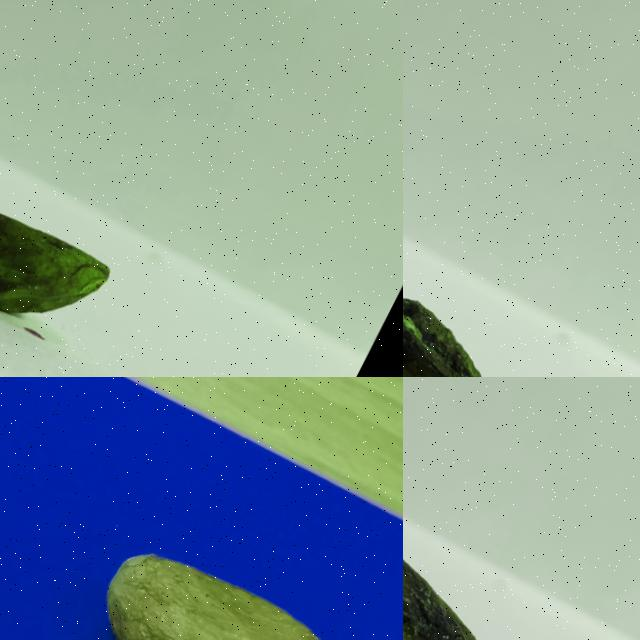Fine_cocoabeans: (3, 471, 402, 639)
Flat_cocoabeans: (403, 183, 639, 376), (0, 106, 166, 376), (403, 414, 591, 639)
